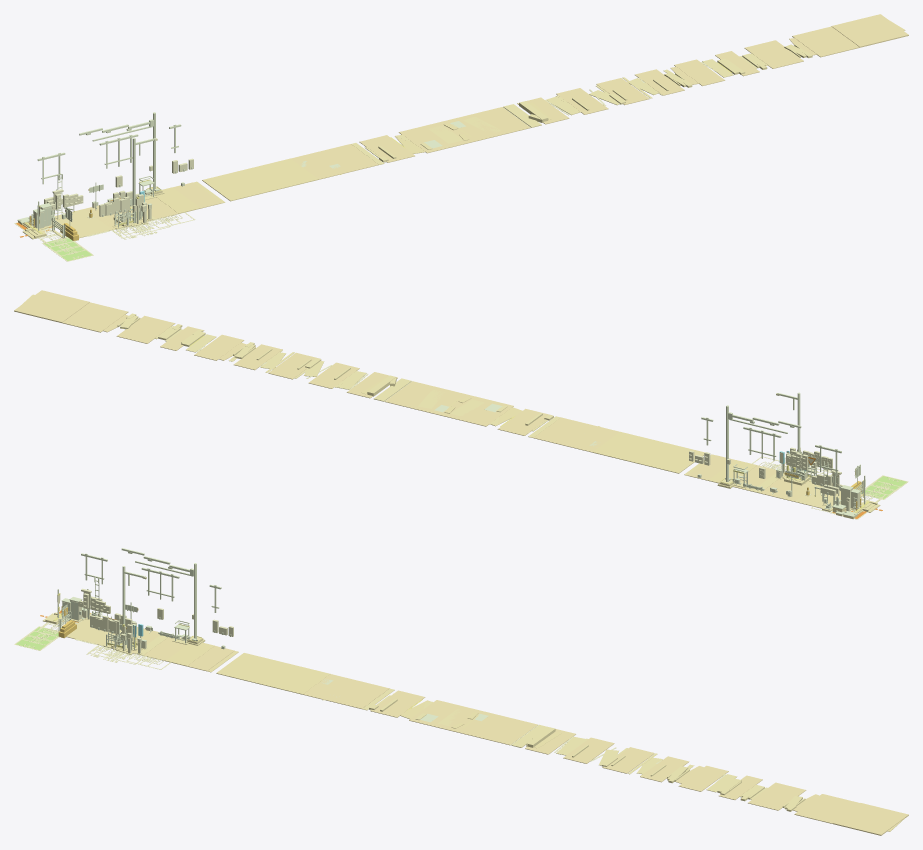
File: scene_wet_road_braking.glb
The picture shows the model from 3 angles, top to bottom: view 1: azimuth 30°, elevation 25°; view 2: azimuth 150°, elevation 25°; view 3: azimuth 330°, elevation 25°; orthographic projection. The views are drawn at different scales.
Parts seen in each view (by area): view 1: base (×7), travel_lane (×4), through_lane (×2), body, approach_lane, mainline, main_lane, gravel_lane; view 2: base (×7), travel_lane (×4), through_lane (×2), approach_lane, mainline, body, main_lane, lane, lane_right; view 3: base (×7), travel_lane (×3), approach_lane, mainline, main_lane, body, gravel_lane, through_lane.
Boxes of the visible parts, bbox=[...] form: base (×7): bbox=[202, 14, 908, 201]; travel_lane (×4): bbox=[173, 59, 725, 210]; through_lane (×2): bbox=[635, 40, 803, 95]; body: bbox=[51, 207, 119, 238]; approach_lane: bbox=[477, 107, 530, 133]; mainline: bbox=[359, 135, 414, 162]; main_lane: bbox=[596, 78, 649, 105]; gravel_lane: bbox=[156, 187, 200, 213]; base (×7): bbox=[14, 290, 704, 473]; travel_lane (×4): bbox=[194, 334, 734, 480]; through_lane (×2): bbox=[116, 315, 282, 370]; approach_lane: bbox=[384, 381, 437, 407]; mainline: bbox=[497, 408, 551, 435]; body: bbox=[788, 481, 840, 510]; main_lane: bbox=[268, 352, 320, 379]; lane: bbox=[760, 475, 810, 501]; lane_right: bbox=[131, 319, 175, 343]; base (×7): bbox=[216, 653, 908, 835]; travel_lane (×3): bbox=[333, 683, 728, 791]; approach_lane: bbox=[485, 718, 537, 745]; mainline: bbox=[370, 690, 425, 717]; main_lane: bbox=[602, 747, 654, 773]; body: bbox=[66, 615, 137, 645]; gravel_lane: bbox=[165, 642, 214, 666]; through_lane: bbox=[640, 756, 689, 782].
Size of the model in its own units: 71.29 by 6.66 by 7.51.
